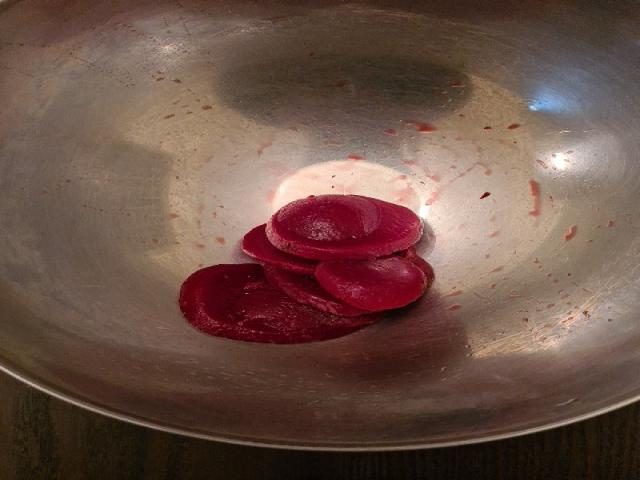kichen waste: (179, 194, 433, 343)
